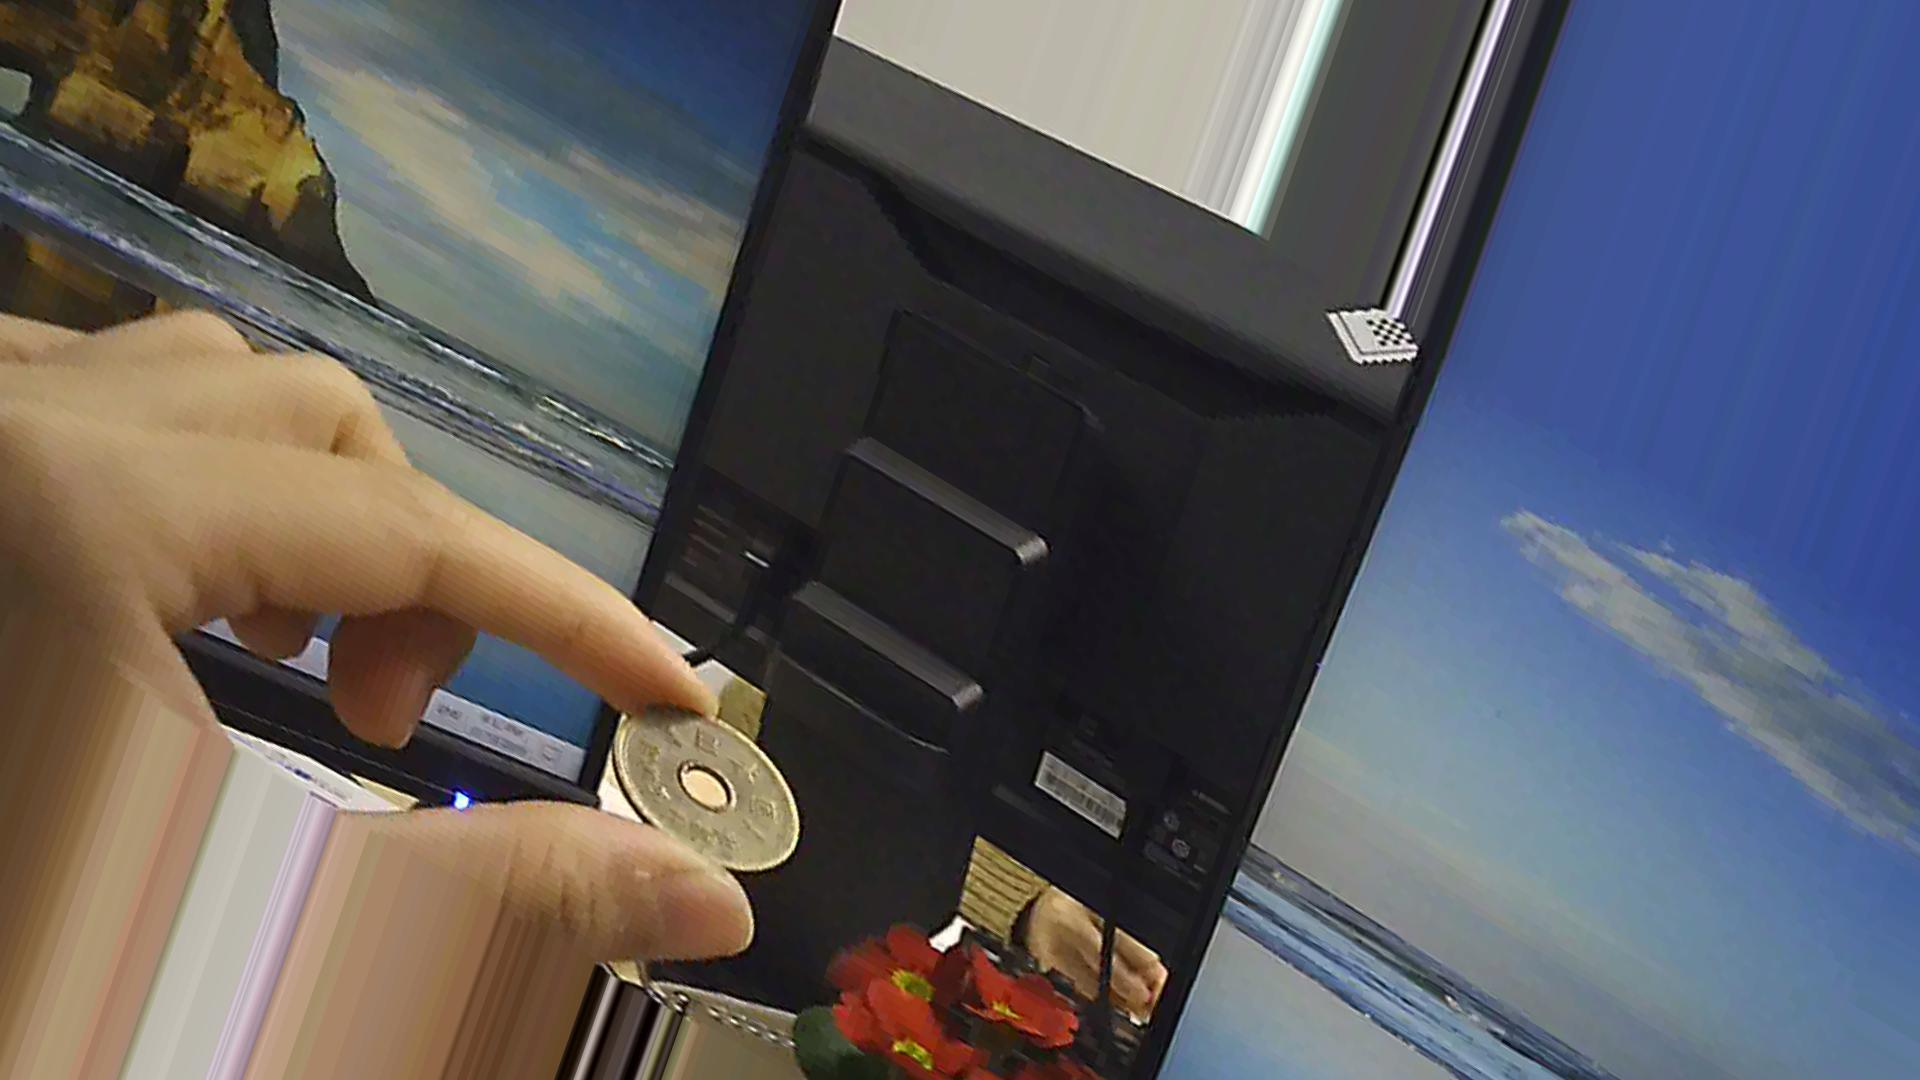5 Yen: (597, 688, 815, 891)
